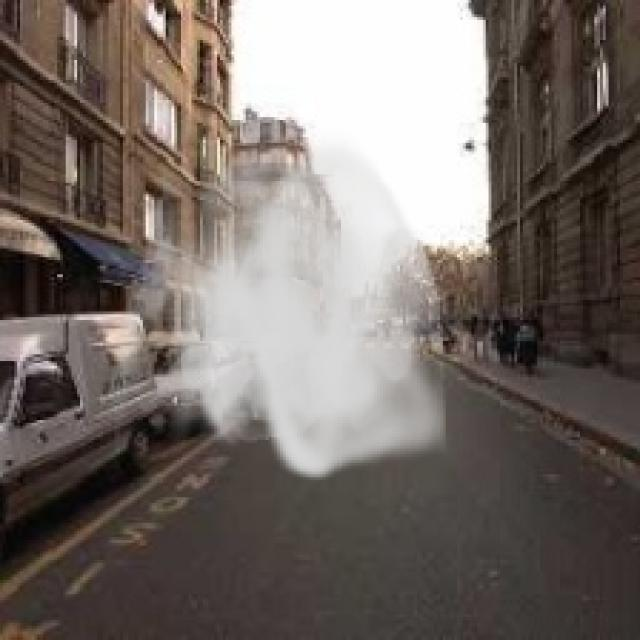Smoke: (106, 128, 457, 483)
